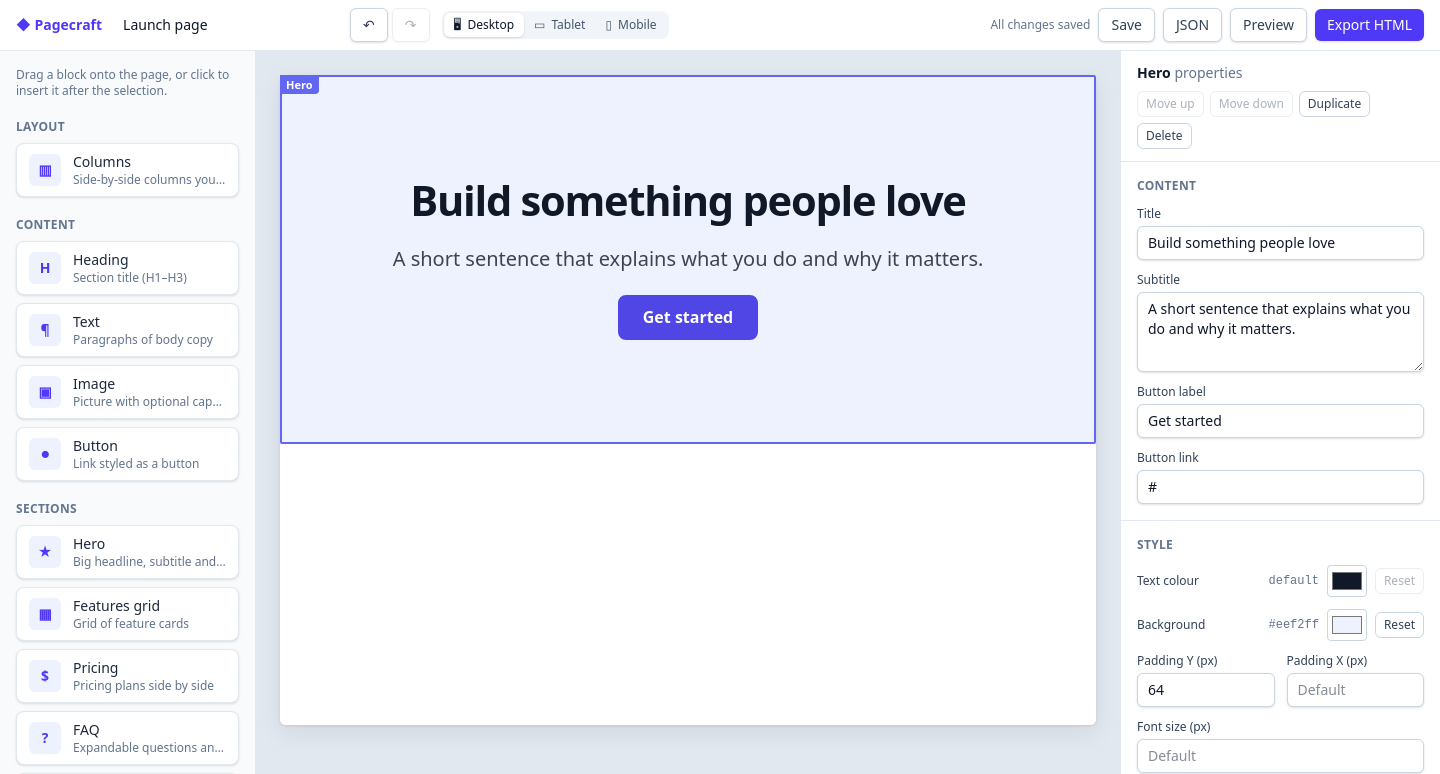
it: EditorShell › renames the page from the toolbar and switches device
Replace the text in the field named "Page name" with "Renamed" at (226, 25), box [114,10,338,40]
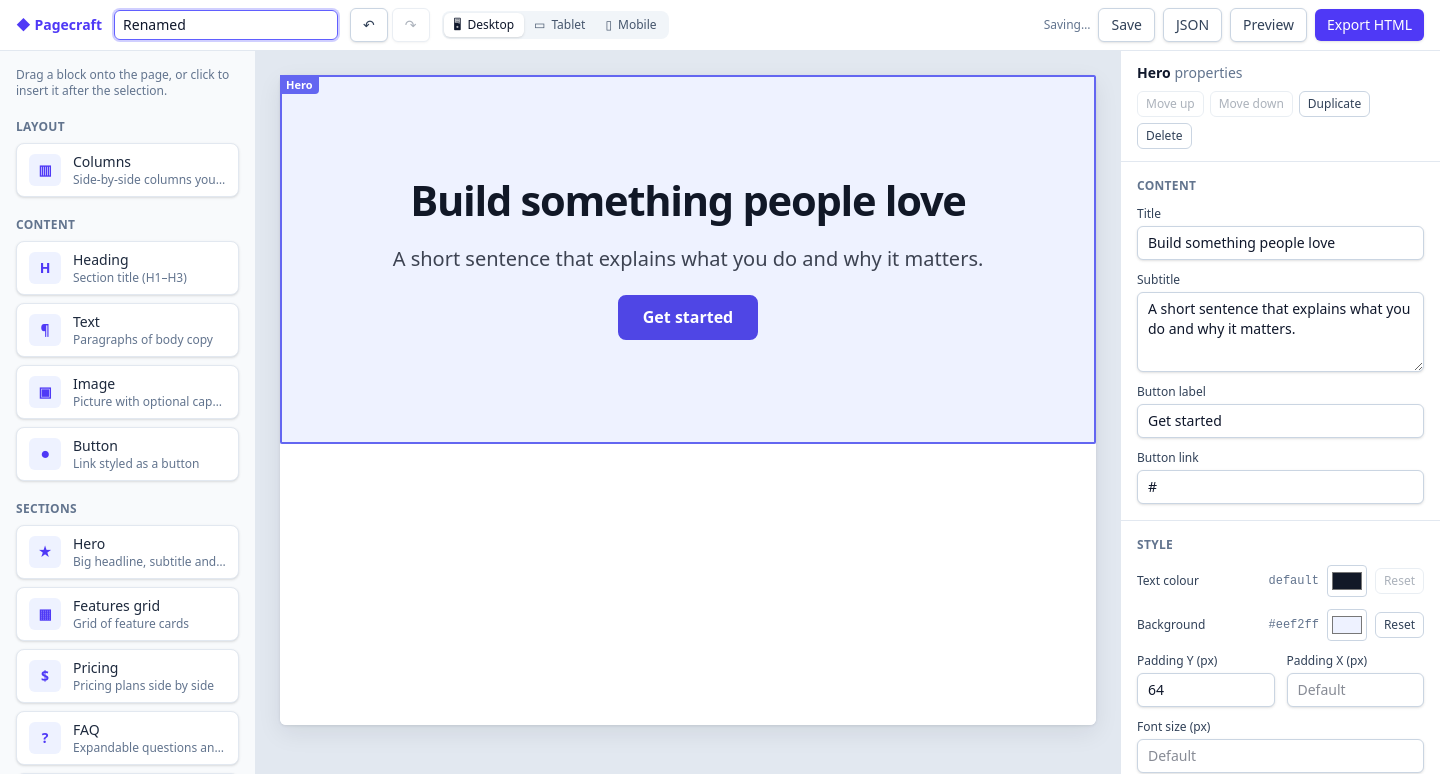
Click the button "▯ Mobile" at (631, 25), box [595,13,666,37]
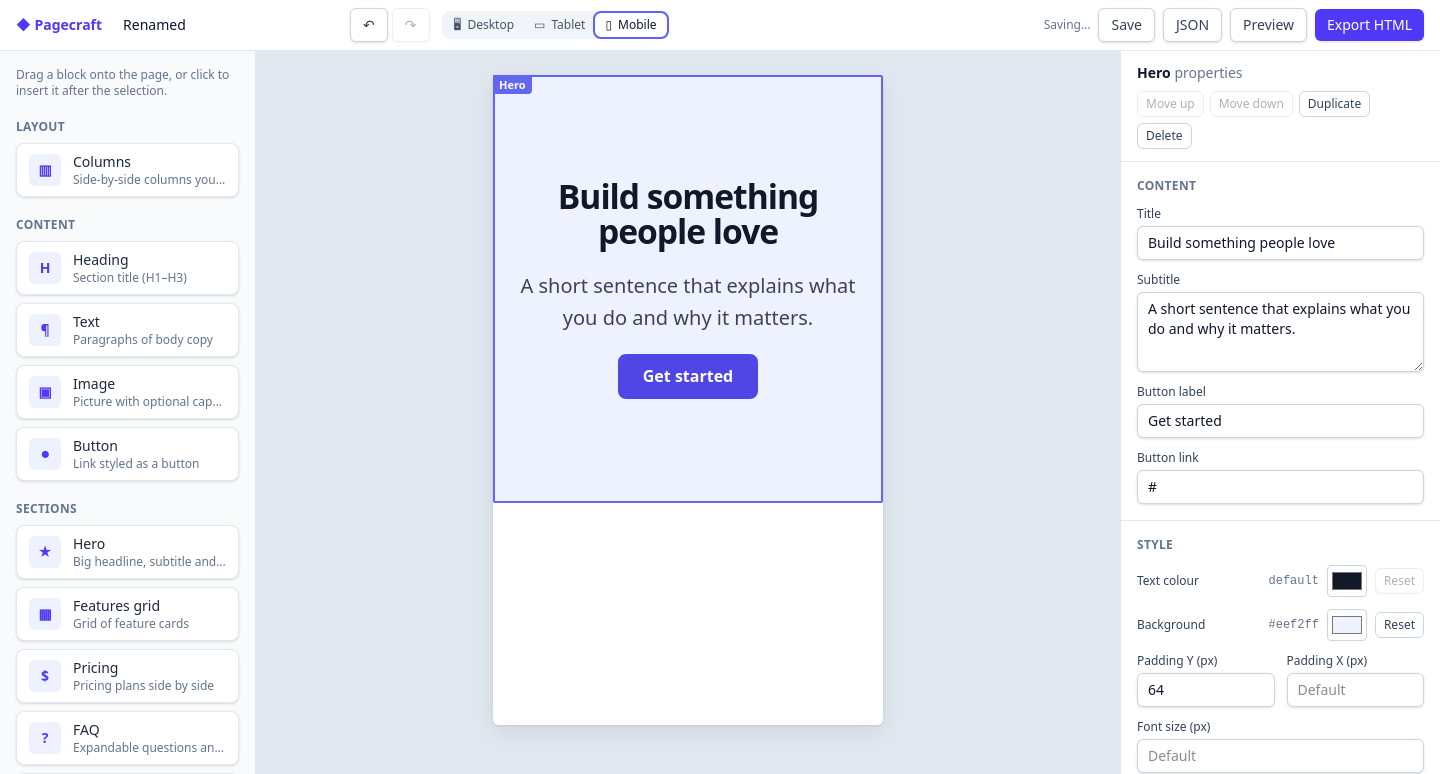
Check: the button "▯ Mobile" is pressed, box [595,13,666,37]
